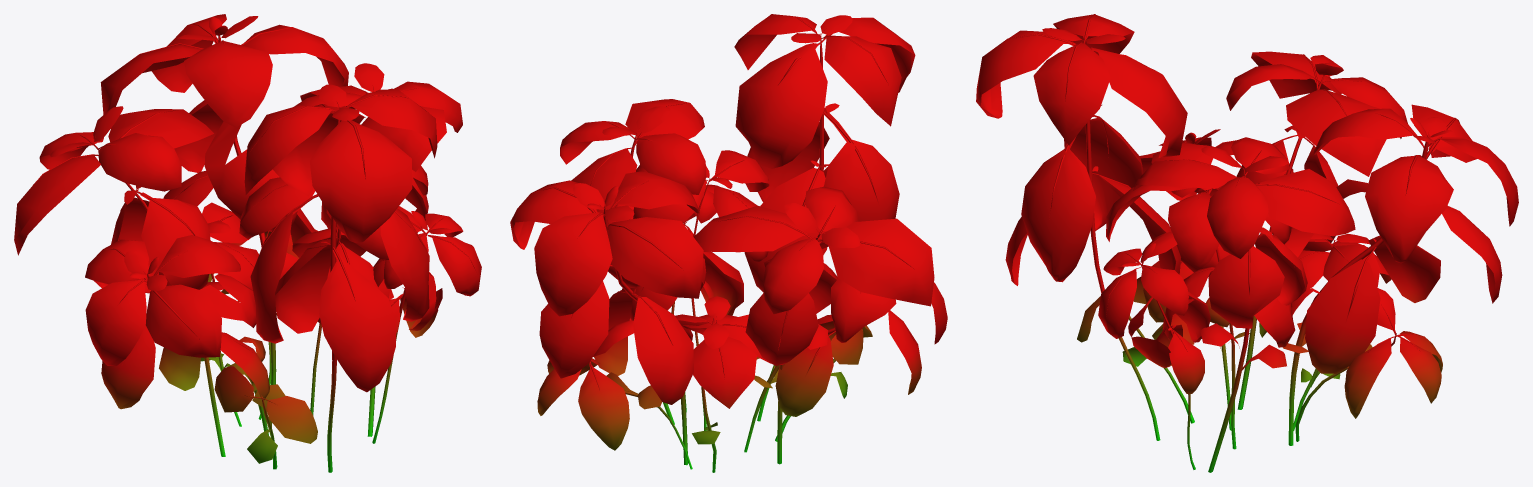
Rendered from Basil_LOD2_Var2_vgpochzia.fbx.
3 renders of one model, left to right at view 1: azimuth 30°, elevation 25°; view 2: azimuth 150°, elevation 25°; view 3: azimuth 270°, elevation 25°, orthographic. The views are drawn at different scales.
Parts seen in each view (by area): view 1: _dlp7_Var2_LOD2; view 2: _dlp7_Var2_LOD2; view 3: _dlp7_Var2_LOD2.
Boxes of the visible parts, x1,y1,x2,y2 form: _dlp7_Var2_LOD2: [14, 14, 481, 472]; _dlp7_Var2_LOD2: [510, 14, 947, 472]; _dlp7_Var2_LOD2: [976, 14, 1518, 472].
Size of the model in its own units: 30.79 by 28.45 by 35.4.
